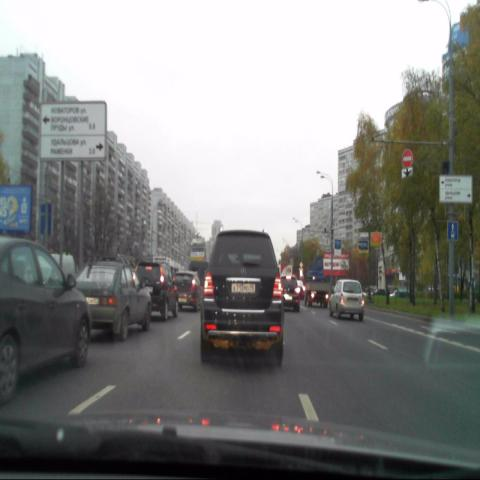3_1: (402, 150, 412, 167)
5_14: (446, 221, 458, 241)
